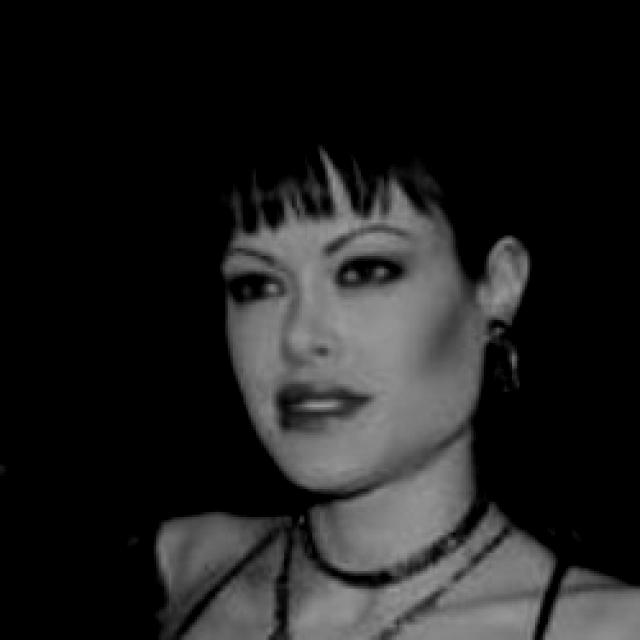real: (200, 100, 538, 494), (219, 243, 420, 321)
